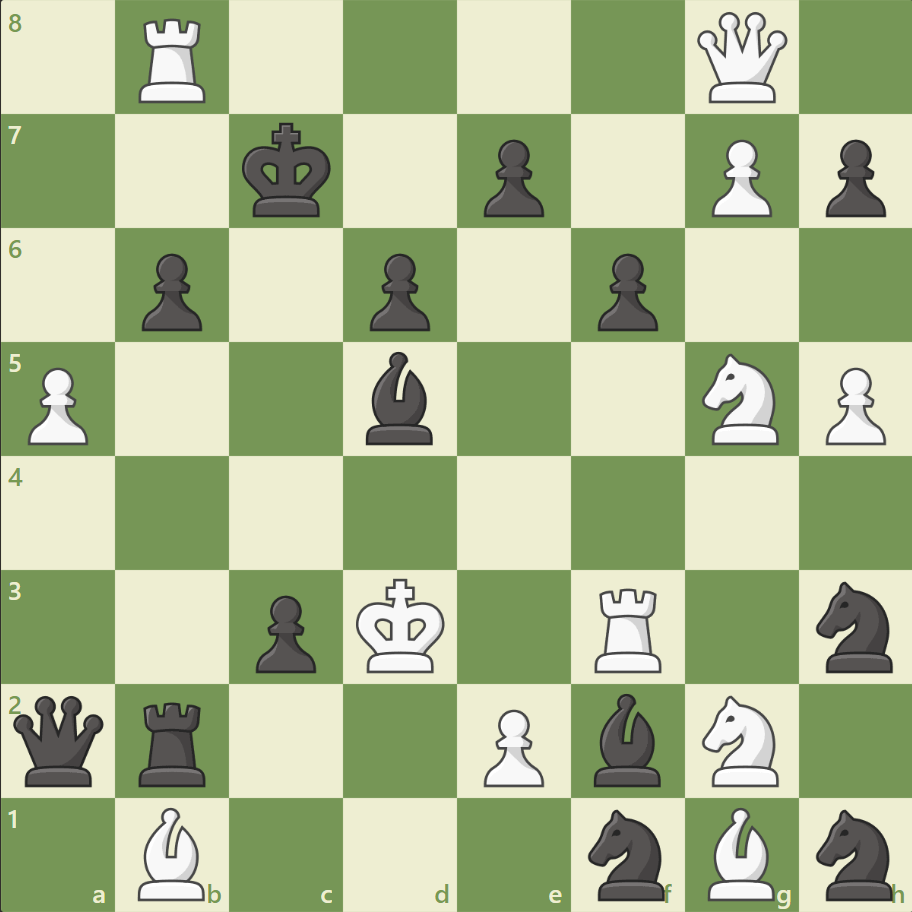B: (131, 801, 215, 904), (698, 801, 782, 904)
K: (351, 571, 451, 679)
N: (692, 688, 789, 791), (692, 348, 789, 450)
P: (701, 132, 776, 223), (20, 359, 95, 450), (474, 700, 549, 791), (815, 359, 889, 450)
Q: (691, 9, 790, 108)
R: (587, 579, 670, 676), (133, 12, 215, 109)
b: (585, 687, 669, 790), (358, 347, 442, 449)
k: (238, 117, 338, 225)
n: (806, 575, 903, 677), (579, 802, 676, 904), (806, 802, 903, 904)
p: (474, 132, 549, 223), (133, 246, 208, 337), (247, 586, 322, 677), (815, 132, 889, 223), (361, 246, 435, 337), (588, 246, 662, 337)
q: (10, 690, 109, 789)
r: (133, 693, 215, 790)
